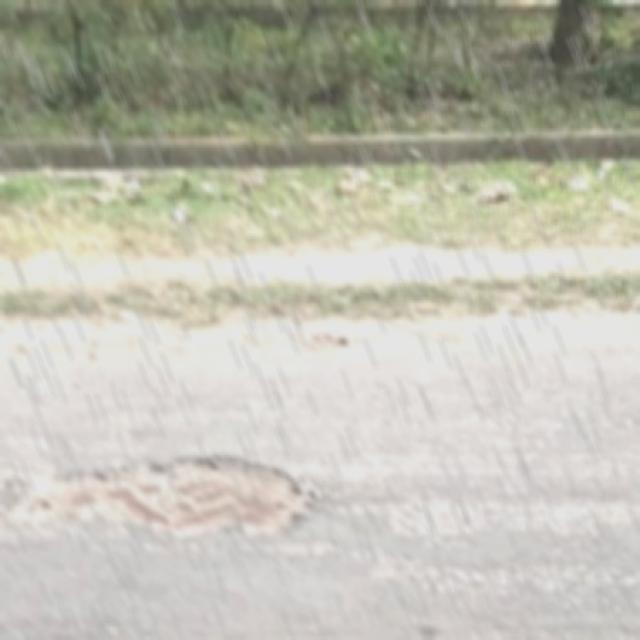road-pothole: (3, 455, 302, 538)
